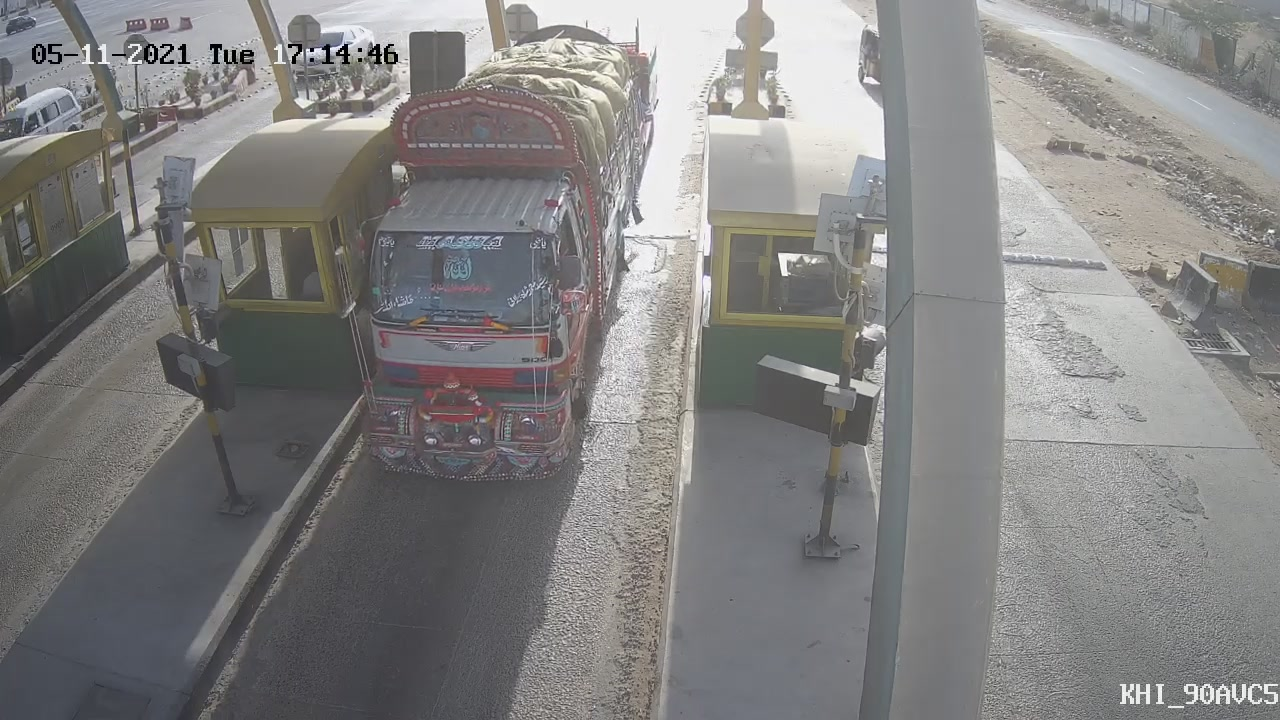F5: (292, 5, 686, 507)
